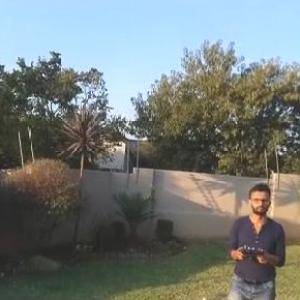follow: (224, 177, 290, 299)
